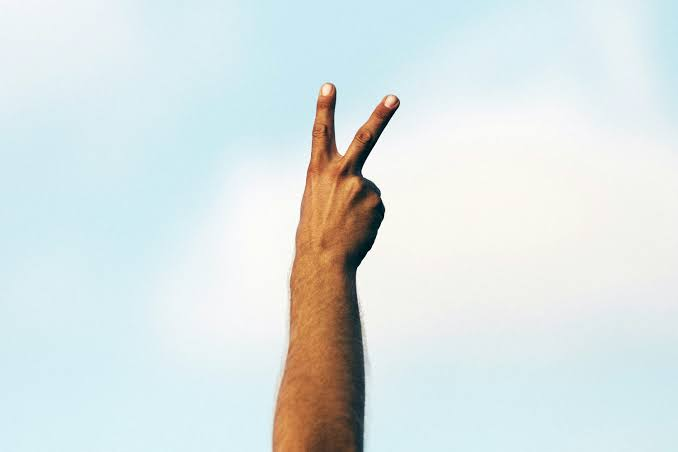peace_sign: (283, 72, 414, 254)
